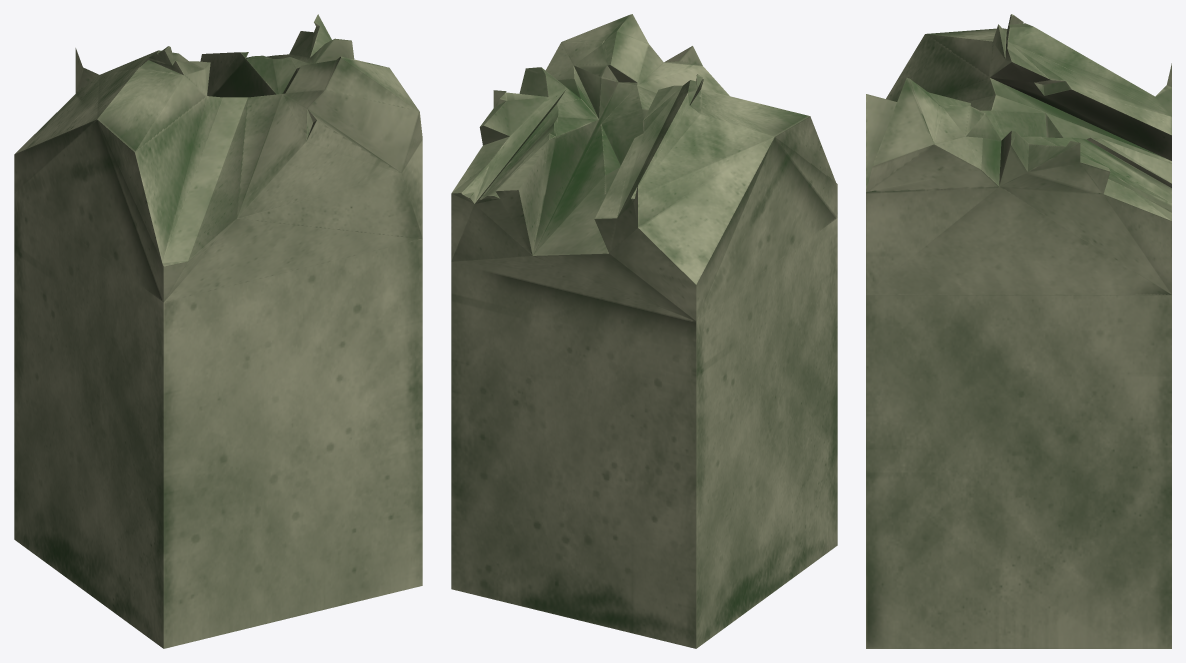
File: Mini Ruins 2.fbx
3 renders of one model, left to right at view 1: azimuth 30°, elevation 25°; view 2: azimuth 150°, elevation 25°; view 3: azimuth 270°, elevation 25°, orthographic. The views are drawn at different scales.
Parts seen in each view (by area): view 1: Mini Ruins 2; view 2: Mini Ruins 2; view 3: Mini Ruins 2.
Part boxes in pixels (left/top/right/bottom): Mini Ruins 2: left=14, top=14, right=422, bottom=648; Mini Ruins 2: left=451, top=14, right=837, bottom=648; Mini Ruins 2: left=866, top=14, right=1171, bottom=648.
Size of the model in its own units: 101 by 198 by 101.
1 material, 1 textured.
